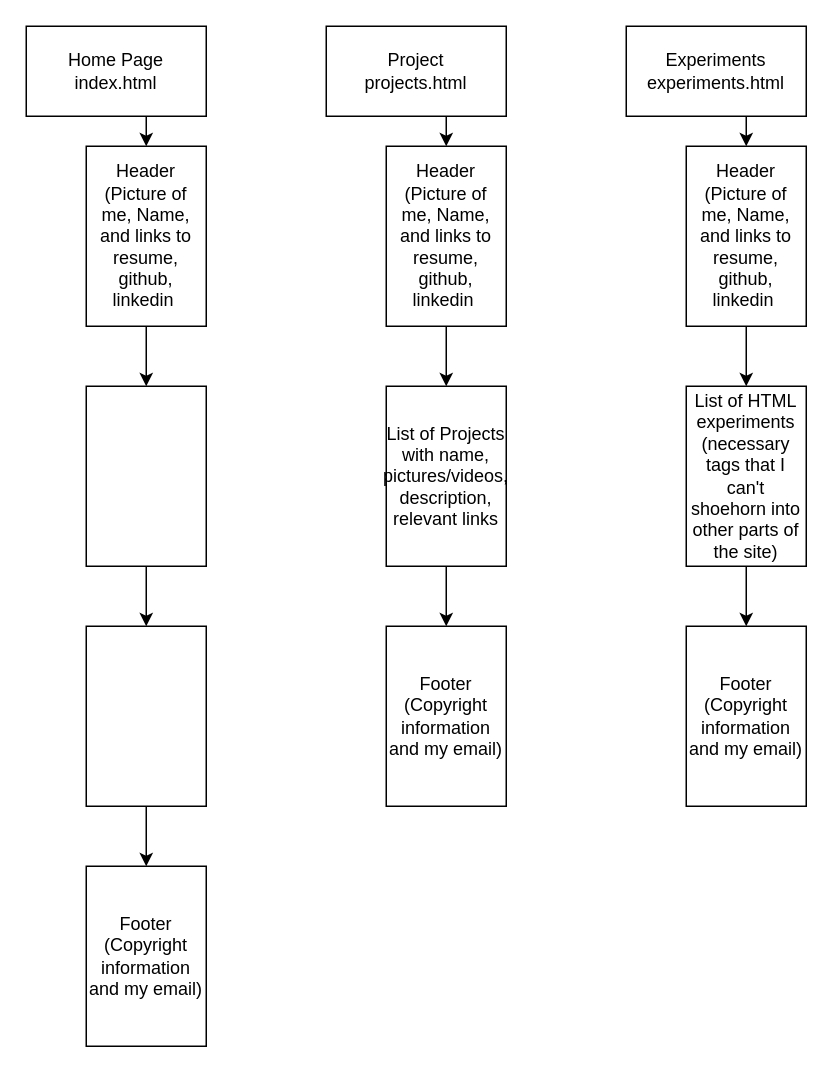
Some shapes in this 833 by 1073 pixel diagram are drawn without their labels. The centre of each missing label's shape, as x and y in pixels:
"Bio (Information about myself and what I'm doing)" goes at pixel 145 475.
"Classes taken (List of courses with links to the ucsd website for each course)" goes at pixel 145 715.
